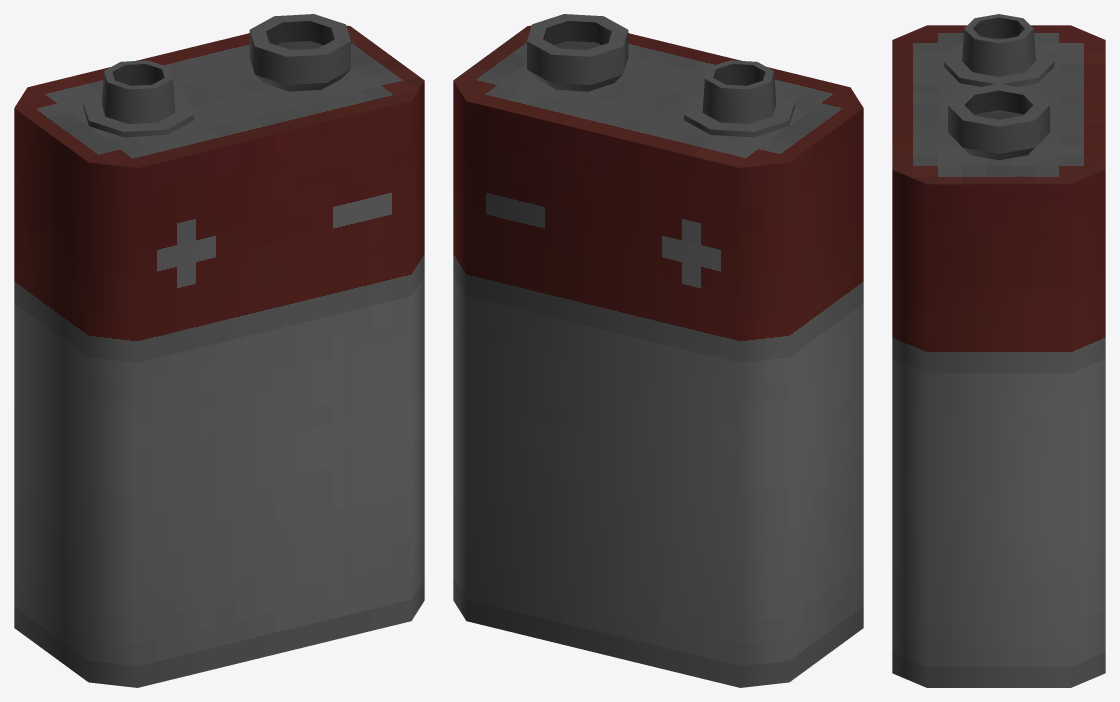
File: battery_mp_3_1.glb
The picture shows the model from 3 angles, left to right: view 1: azimuth 30°, elevation 25°; view 2: azimuth 150°, elevation 25°; view 3: azimuth 270°, elevation 25°; orthographic projection. The views are drawn at different scales.
Parts seen in each view (by area): view 1: battery_mp_3_1; view 2: battery_mp_3_1; view 3: battery_mp_3_1.
Boxes of the visible parts, box(x1,y1,x2,y2) form: battery_mp_3_1: box(14, 14, 424, 687); battery_mp_3_1: box(453, 14, 863, 687); battery_mp_3_1: box(892, 14, 1105, 687).
Size of the model in its own units: 0.0648 by 0.103 by 0.0368.
Materials: 1 (1 with a texture image).
